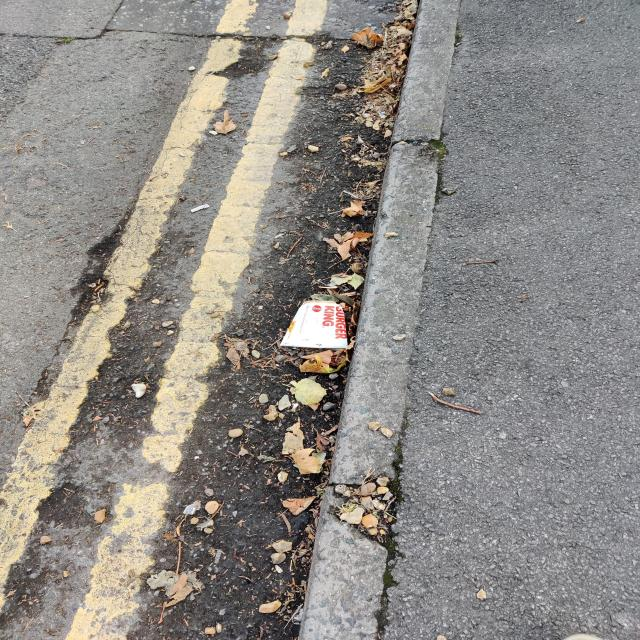litter: (283, 298, 347, 345)
